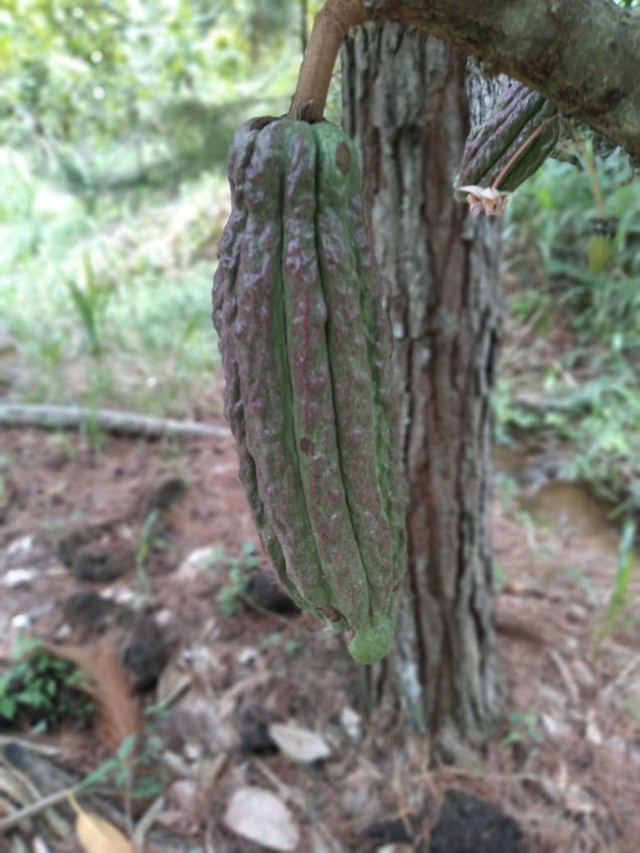Health: (208, 112, 418, 672)
